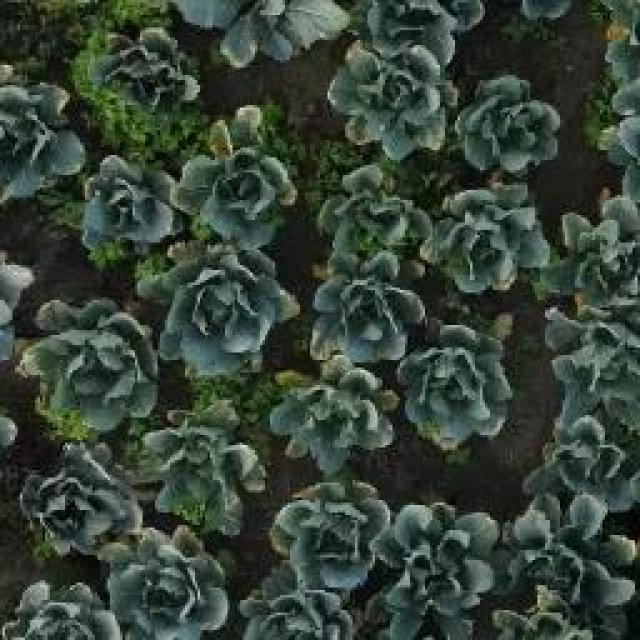cabbage: (24, 301, 159, 431), (372, 507, 491, 630), (328, 37, 452, 155), (162, 250, 292, 360), (106, 531, 228, 640), (144, 412, 258, 528), (448, 72, 560, 190), (274, 353, 388, 468), (400, 324, 510, 442), (503, 502, 624, 609), (424, 188, 545, 292), (181, 120, 290, 229), (25, 450, 135, 558), (0, 72, 82, 209), (299, 265, 419, 358), (270, 484, 379, 586), (322, 157, 424, 260), (533, 402, 640, 498), (545, 303, 640, 406), (180, 0, 320, 62), (92, 31, 201, 108), (82, 158, 182, 241), (568, 198, 640, 310), (8, 580, 118, 640), (241, 580, 348, 640)
